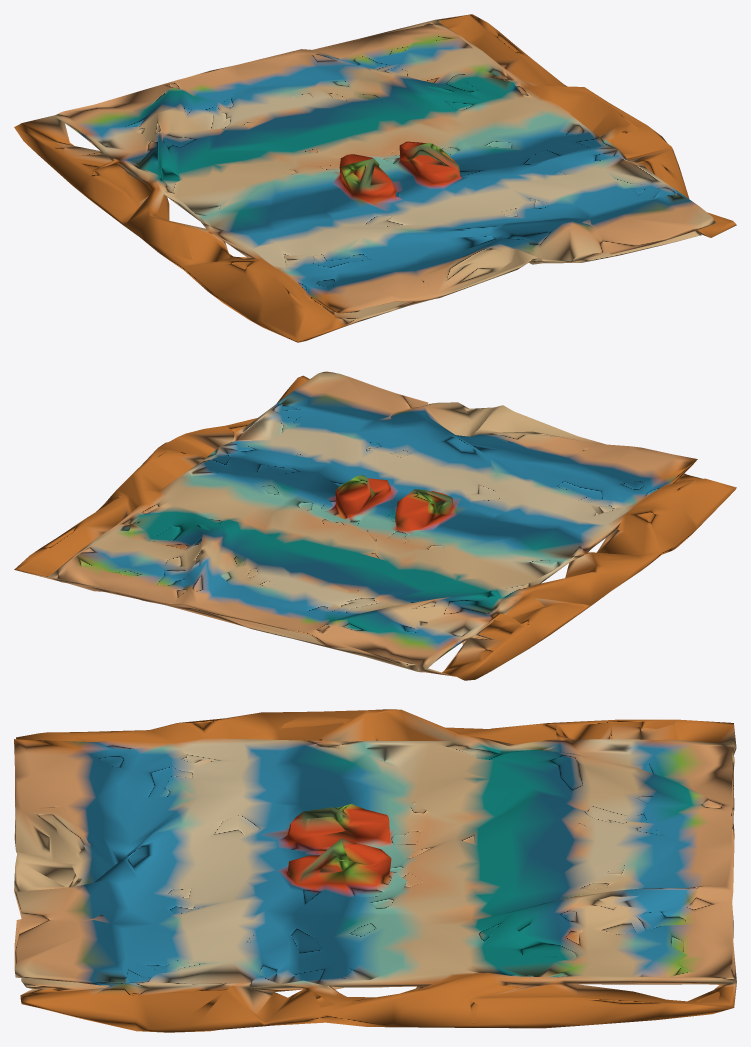
The model's file is gen3d-beach-towel-lod0.glb.
3 renders of one model, top to bottom at view 1: azimuth 30°, elevation 25°; view 2: azimuth 150°, elevation 25°; view 3: azimuth 270°, elevation 25°, orthographic. The views are drawn at different scales.
Parts seen in each view (by area): view 1: part_0; view 2: part_0; view 3: part_0.
Boxes of the visible parts, box(x1,y1,x2,y2) form: part_0: box(14, 14, 736, 342); part_0: box(14, 371, 736, 680); part_0: box(14, 709, 736, 1032).
Size of the model in its own units: 9.1 by 0.9889 by 9.01.
